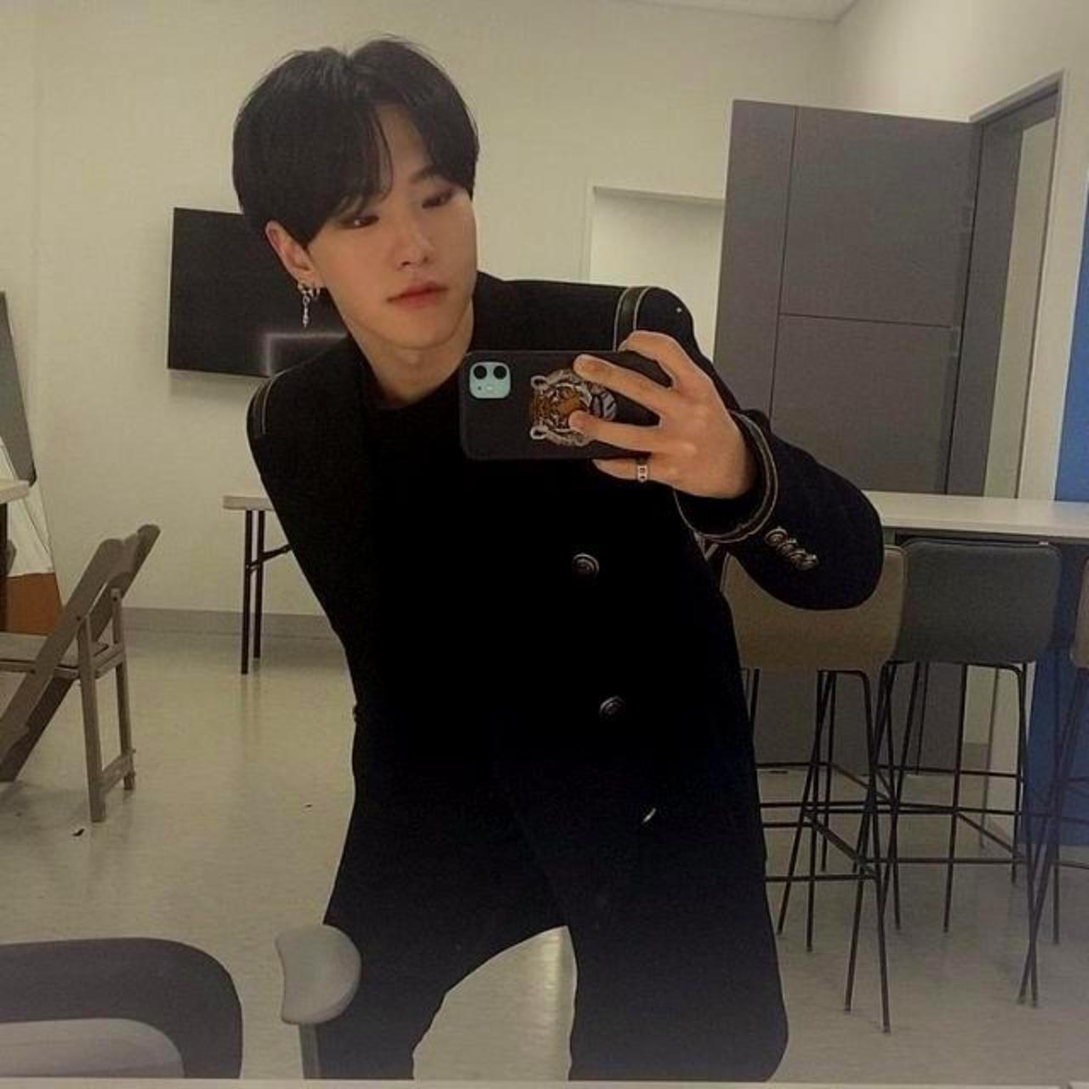phone: (459, 344, 698, 463)
